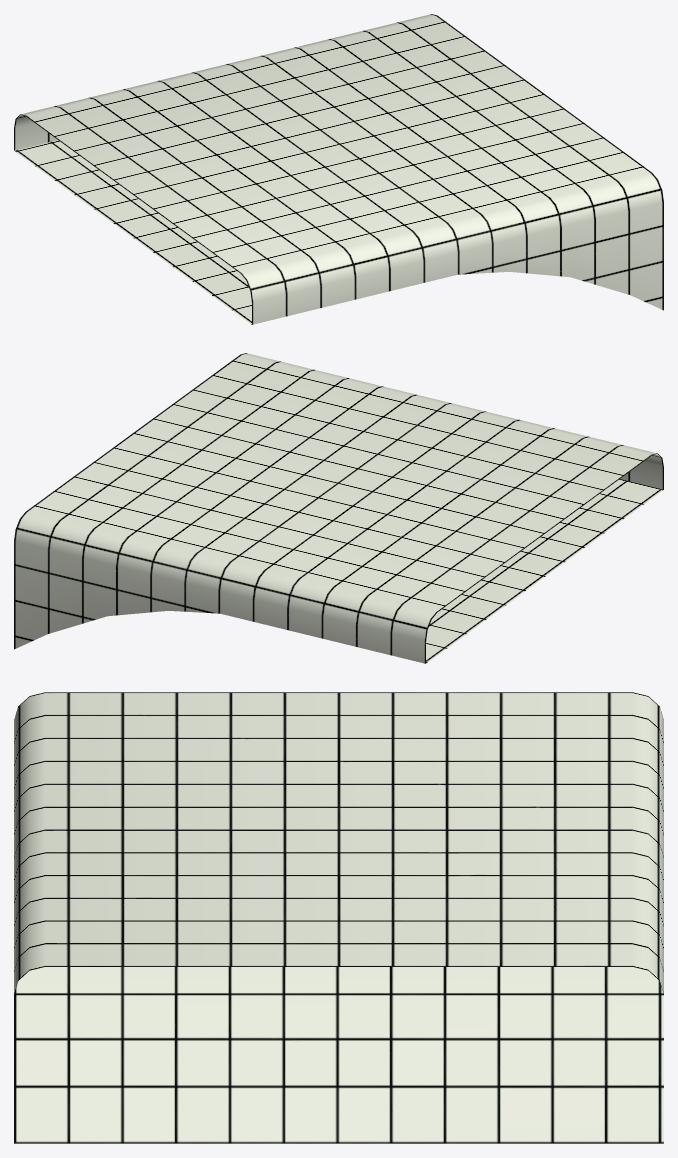
Rendered from Bridge_end.fbx.
3 views of the same model, one above another, from view 1: azimuth 30°, elevation 25°; view 2: azimuth 150°, elevation 25°; view 3: azimuth 270°, elevation 25° (orthographic). The views are drawn at different scales.
Visible parts, largest first — view 1: Bridge_end; view 2: Bridge_end; view 3: Bridge_end.
Boxes of the visible parts, <box> form: Bridge_end: <box>14,14,663,324</box>; Bridge_end: <box>14,353,663,663</box>; Bridge_end: <box>14,692,663,1143</box>.
Bounding box in the file's own units: 200 × 60 × 200.
